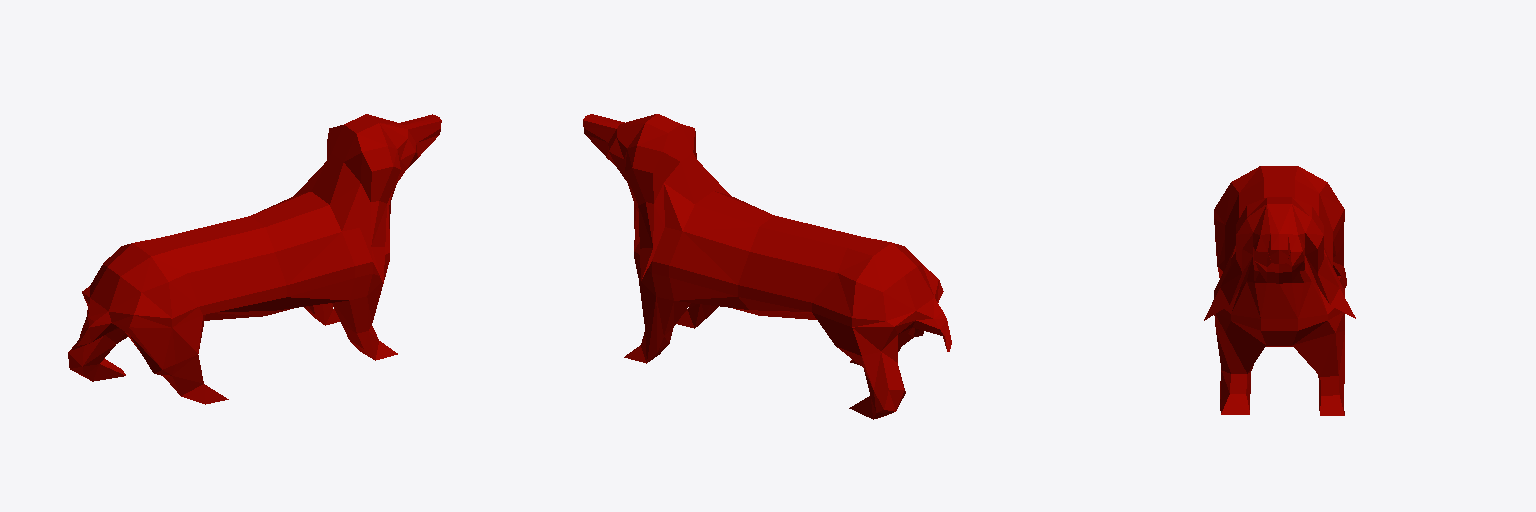
The model's file is frank-statuette.obj.
The picture shows the model from 3 angles: view 1: azimuth 30°, elevation 25°; view 2: azimuth 150°, elevation 25°; view 3: azimuth 270°, elevation 25°; orthographic projection.
Parts seen in each view (by area): view 1: Cube; view 2: Cube; view 3: Cube.
Part boxes in pixels (x1,y1,x2,y2): Cube: (68, 114, 441, 404); Cube: (583, 114, 951, 419); Cube: (1204, 166, 1355, 415).
Size of the model in its own units: 10.85 by 6.2 by 3.94.